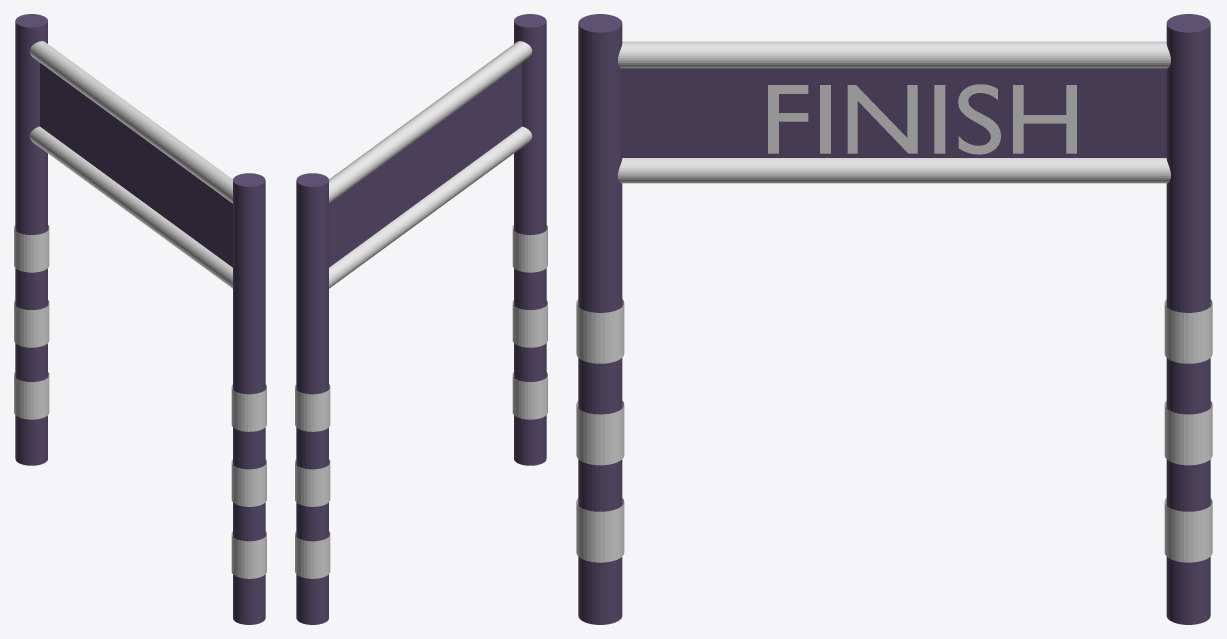
File: FINISH.fbx
3 views of the same model, side by side, from view 1: azimuth 30°, elevation 25°; view 2: azimuth 150°, elevation 25°; view 3: azimuth 270°, elevation 25° (orthographic). The views are drawn at different scales.
Parts seen in each view (by area): view 1: Cylinder, Plane, Cylinder.002, Cylinder.003, Cylinder.006, Cylinder.005, Cylinder.004; view 2: Cylinder, Plane, Cylinder.002, Cylinder.003, Cylinder.006, Cylinder.005, Cylinder.004; view 3: Plane, Cylinder, Cylinder.002, Cylinder.003, Text, Cylinder.006, Cylinder.004, Cylinder.005.
Part boxes in pixels (x1,y1,x2,y2): Cylinder: [15, 14, 265, 624]; Plane: [40, 63, 232, 267]; Cylinder.002: [29, 41, 232, 203]; Cylinder.003: [29, 126, 232, 288]; Cylinder.006: [14, 372, 266, 578]; Cylinder.005: [14, 300, 266, 506]; Cylinder.004: [14, 225, 266, 431]; Cylinder: [296, 14, 546, 624]; Plane: [329, 63, 521, 267]; Cylinder.002: [329, 41, 532, 203]; Cylinder.003: [329, 126, 532, 288]; Cylinder.006: [295, 372, 547, 578]; Cylinder.005: [295, 300, 547, 506]; Cylinder.004: [295, 225, 547, 431]; Plane: [622, 68, 1166, 157]; Cylinder: [578, 14, 1210, 624]; Cylinder.002: [618, 41, 1170, 68]; Cylinder.003: [618, 158, 1170, 183]; Text: [768, 84, 1076, 154]; Cylinder.006: [576, 498, 1212, 562]; Cylinder.004: [576, 299, 1212, 363]; Cylinder.005: [576, 401, 1212, 465].
Size of the model in its own units: 109 by 1484 by 1444.
